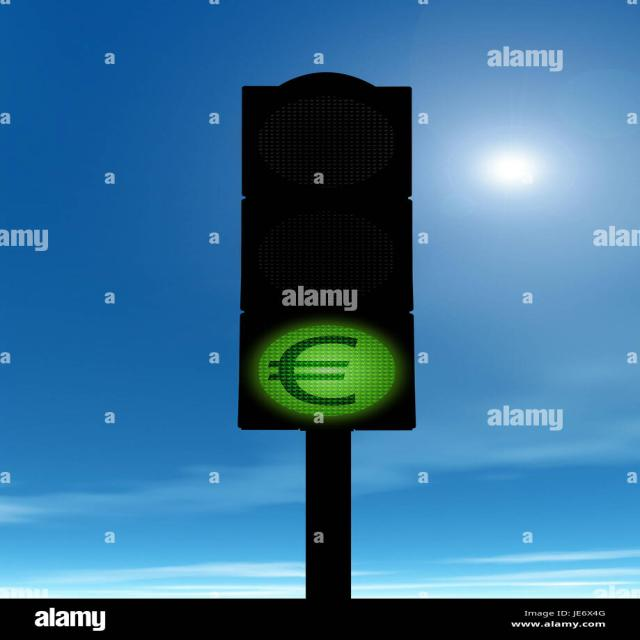green: (248, 318, 402, 414)
